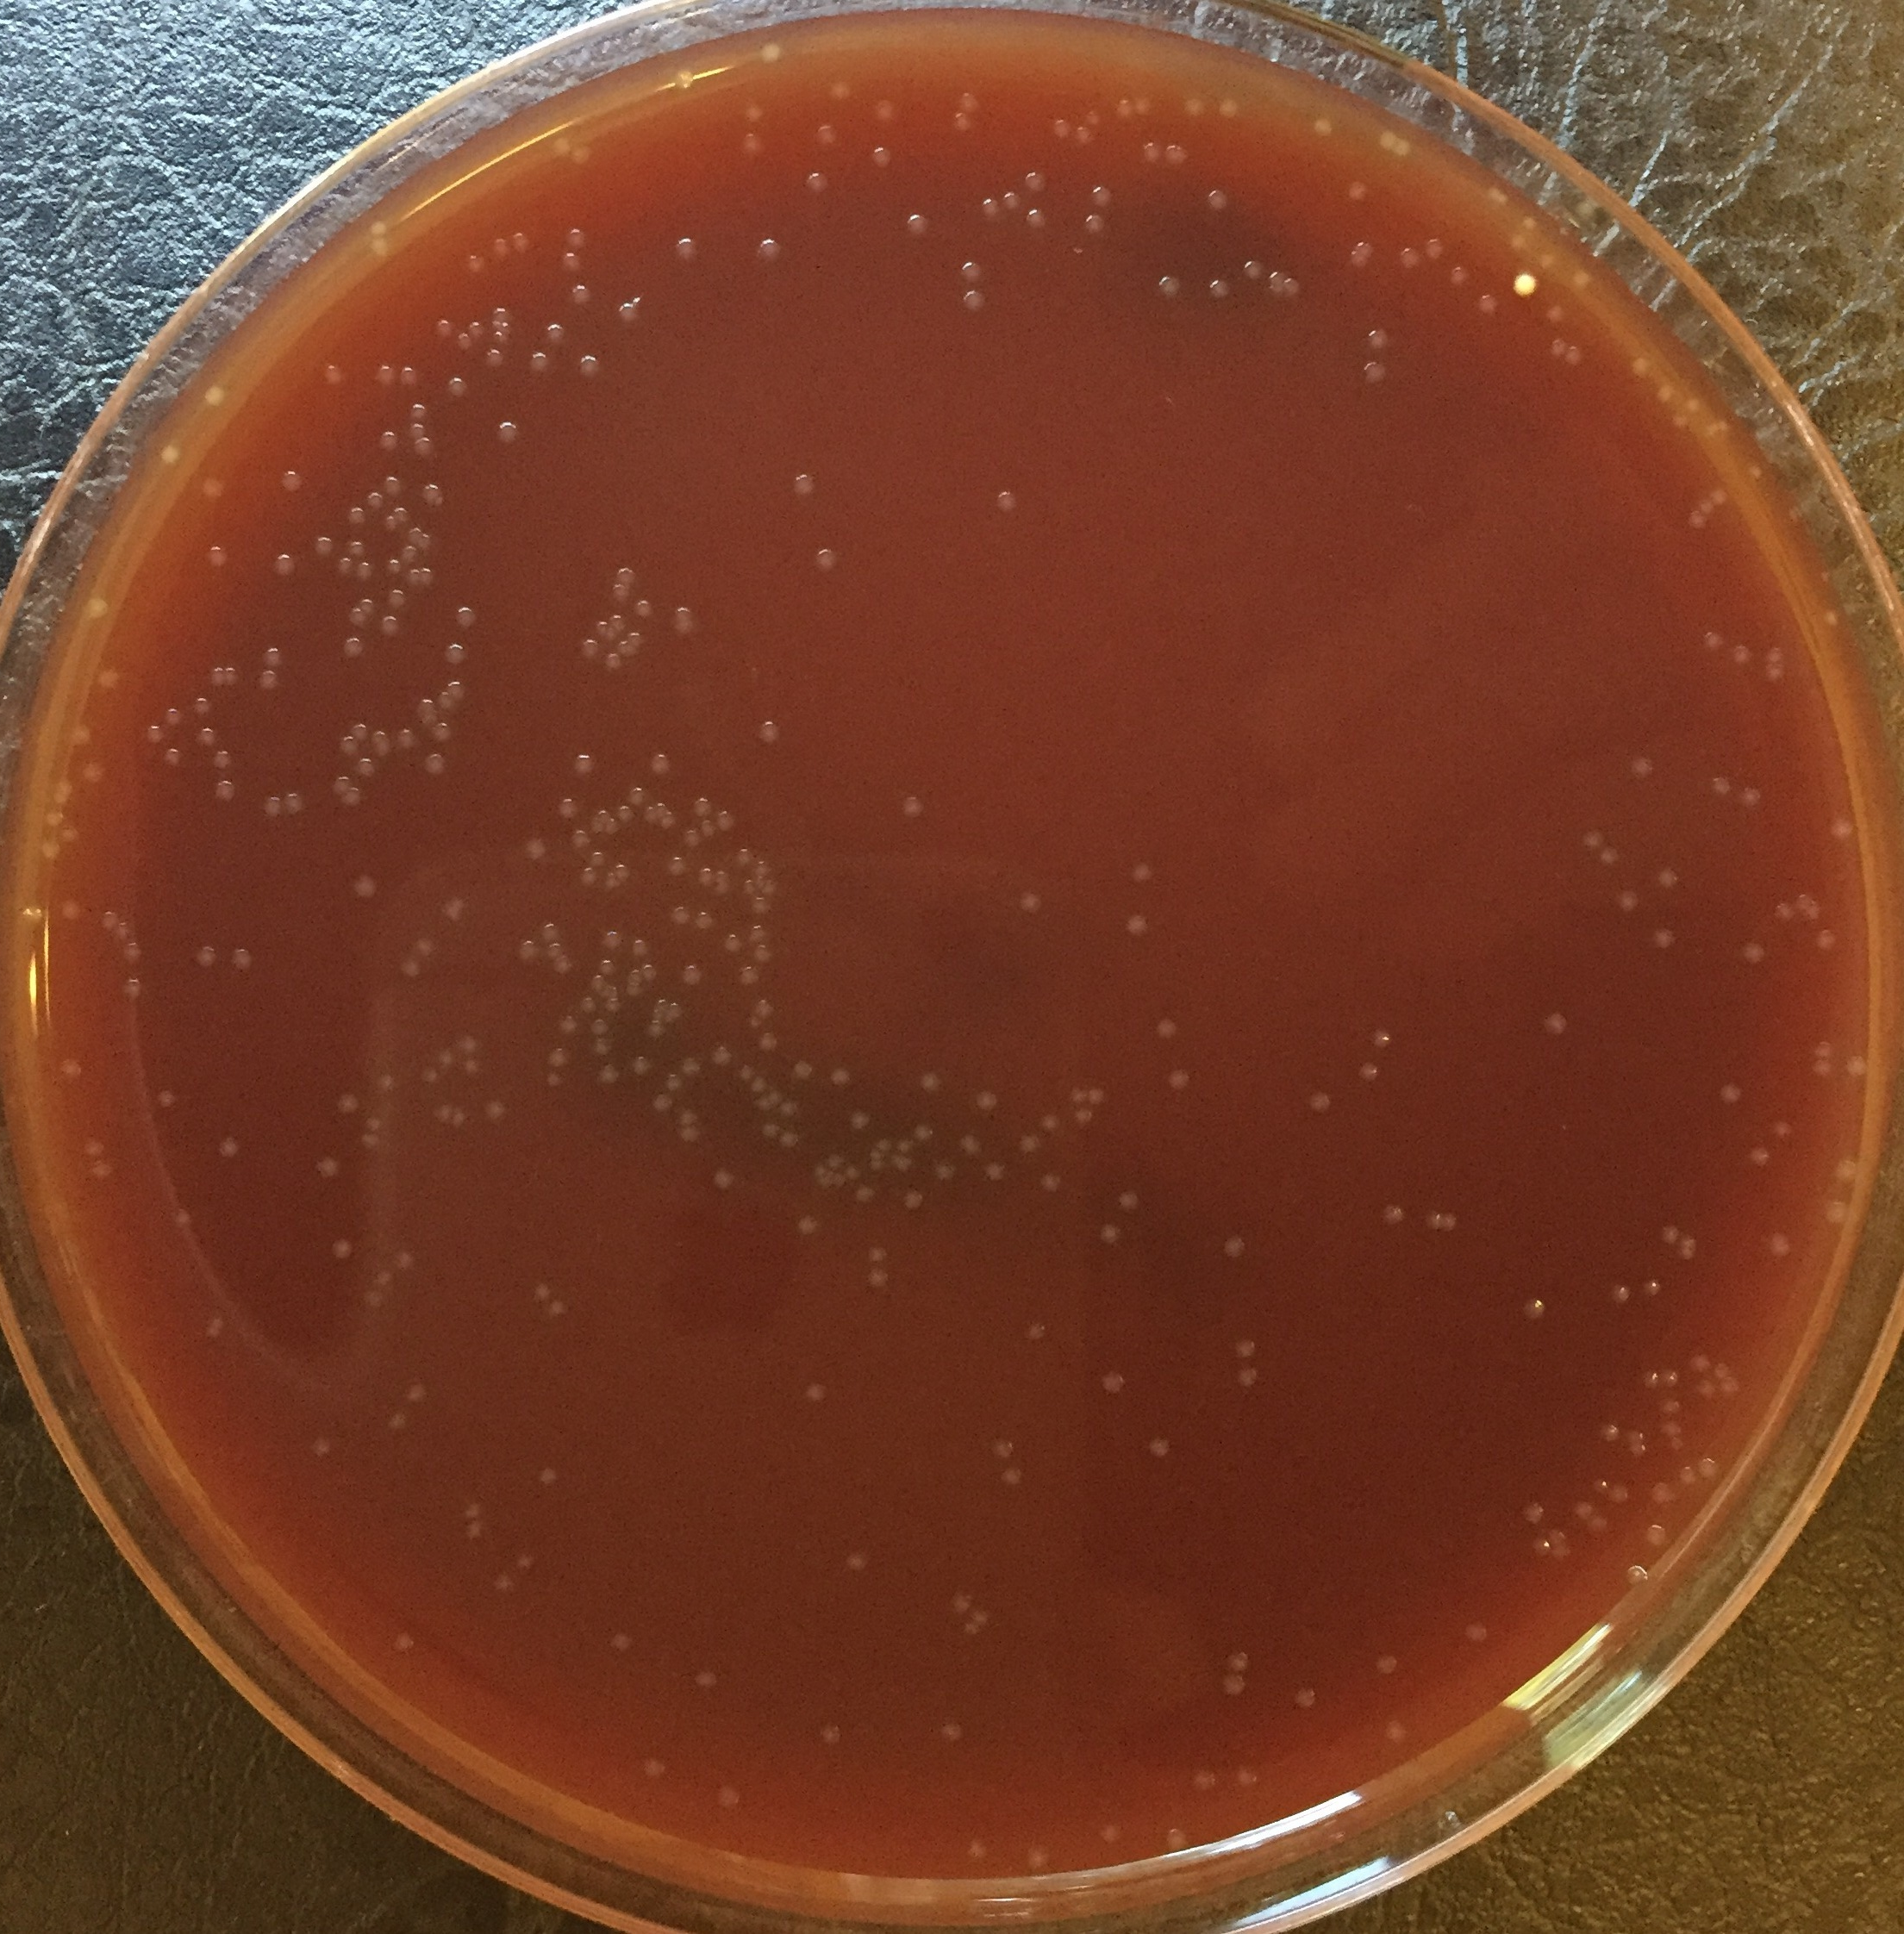sp10: (978, 476, 1027, 520), (192, 539, 239, 581), (750, 230, 790, 279), (1622, 748, 1662, 797), (1458, 1613, 1503, 1655), (1370, 1643, 1409, 1688), (708, 1775, 750, 1815), (1290, 1674, 1325, 1719), (802, 541, 839, 582), (1735, 936, 1770, 980), (1139, 1427, 1177, 1465), (1091, 1817, 1132, 1854), (952, 284, 990, 321), (77, 591, 115, 628), (837, 1540, 874, 1578), (1123, 853, 1163, 888), (153, 438, 190, 474), (668, 596, 703, 635), (194, 1311, 232, 1346), (1377, 1714, 1412, 1753), (1217, 1229, 1257, 1263), (1766, 1226, 1799, 1266), (1393, 235, 1425, 277), (490, 417, 525, 453), (199, 377, 232, 415), (263, 548, 302, 581), (605, 1629, 643, 1662), (572, 349, 603, 389), (1153, 270, 1187, 305), (441, 891, 476, 926), (1649, 865, 1693, 893), (821, 75, 858, 108), (786, 469, 823, 502), (1186, 1765, 1219, 1801), (1093, 1365, 1126, 1402), (1540, 1008, 1576, 1041), (197, 473, 230, 507), (1233, 1760, 1266, 1794), (1515, 1292, 1548, 1327), (1163, 136, 1194, 173), (1078, 215, 1116, 244), (1815, 924, 1845, 963), (1348, 235, 1376, 276), (1231, 1362, 1264, 1395), (1163, 1066, 1196, 1099), (1020, 162, 1051, 197), (1360, 361, 1391, 396), (1362, 324, 1397, 356), (1344, 176, 1376, 211), (63, 720, 98, 752), (227, 945, 262, 977), (799, 1378, 833, 1409), (636, 1751, 668, 1786), (1180, 92, 1210, 129), (309, 1154, 345, 1184), (818, 1714, 847, 1751), (1826, 807, 1862, 837), (668, 65, 706, 92), (1794, 888, 1822, 926), (673, 232, 699, 272), (420, 478, 452, 511), (392, 950, 424, 984), (896, 792, 928, 825), (1304, 1085, 1336, 1118), (166, 1203, 201, 1233), (793, 1210, 823, 1245), (1517, 1488, 1547, 1522), (1153, 1011, 1187, 1041), (1123, 909, 1158, 938), (867, 140, 894, 176), (615, 295, 647, 326), (275, 464, 307, 495), (396, 361, 427, 392), (1085, 181, 1118, 211), (1309, 113, 1343, 143), (1215, 92, 1245, 126), (337, 635, 370, 664), (1641, 1519, 1670, 1552), (1034, 1167, 1064, 1200), (1095, 1219, 1125, 1252), (1649, 924, 1679, 957), (1738, 781, 1768, 814), (1444, 249, 1468, 289), (521, 830, 549, 865), (384, 1629, 418, 1657), (968, 1086, 1003, 1114), (1833, 1154, 1860, 1189), (943, 110, 980, 136), (1203, 272, 1229, 309), (1756, 664, 1792, 691), (1608, 1278, 1632, 1317), (1020, 202, 1051, 232), (1203, 183, 1233, 215), (542, 317, 572, 349), (987, 1435, 1018, 1465), (1646, 1481, 1676, 1512), (952, 1130, 983, 1160), (1482, 181, 1513, 211), (814, 117, 842, 150), (797, 169, 830, 197), (370, 361, 398, 394), (347, 872, 380, 900), (211, 1132, 239, 1165), (706, 1038, 734, 1071), (1697, 1449, 1724, 1482), (1017, 889, 1044, 923), (1820, 1193, 1848, 1226), (439, 640, 474, 666), (687, 1669, 722, 1695), (1749, 1142, 1775, 1177), (1599, 846, 1634, 872), (907, 209, 931, 246), (450, 600, 479, 630), (418, 752, 448, 781), (326, 1231, 356, 1261), (938, 1714, 968, 1744), (1022, 1843, 1051, 1873), (757, 37, 785, 68), (992, 187, 1020, 218), (408, 432, 439, 460), (92, 663, 124, 691), (628, 1048, 656, 1079), (1215, 1676, 1247, 1704), (1608, 1482, 1635, 1514), (1766, 1114, 1798, 1142), (1353, 1055, 1381, 1086), (1697, 624, 1724, 656), (1728, 637, 1756, 668), (1466, 291, 1498, 319), (364, 239, 398, 265), (1139, 138, 1165, 171), (84, 1160, 117, 1186), (1217, 1646, 1250, 1672), (1627, 349, 1651, 384), (955, 82, 983, 112), (955, 255, 985, 283), (1238, 255, 1268, 283), (443, 371, 471, 401), (47, 774, 77, 802), (567, 748, 596, 776), (964, 1831, 992, 1861), (1161, 1824, 1189, 1854), (1020, 1317, 1050, 1345), (980, 1158, 1008, 1188), (1377, 1200, 1405, 1229), (1703, 771, 1733, 799), (159, 745, 185, 776), (591, 1060, 622, 1086), (706, 1163, 738, 1189), (455, 251, 488, 276), (738, 103, 771, 127), (973, 195, 997, 228), (1655, 371, 1677, 406), (558, 251, 586, 279), (94, 905, 122, 933), (188, 943, 216, 971), (755, 718, 783, 746), (384, 1411, 411, 1439), (900, 1188, 928, 1216), (1369, 1025, 1397, 1053), (1806, 1055, 1834, 1083), (380, 473, 410, 499), (373, 427, 399, 457), (80, 759, 106, 788), (117, 940, 146, 966), (546, 956, 575, 982), (678, 956, 704, 985), (915, 1067, 942, 1097), (1623, 1563, 1653, 1589), (929, 1156, 959, 1182), (1613, 888, 1642, 914), (1425, 227, 1445, 263), (223, 661, 248, 692), (17, 903, 49, 928), (828, 1064, 853, 1095), (1529, 1531, 1554, 1563), (488, 1571, 521, 1594), (1229, 1336, 1262, 1359), (1745, 455, 1768, 488), (738, 134, 764, 162), (255, 666, 281, 694), (211, 780, 237, 807), (119, 977, 145, 1004), (553, 795, 579, 823), (54, 1057, 82, 1083), (560, 225, 589, 249), (481, 349, 511, 373), (160, 701, 185, 731), (194, 724, 223, 748), (411, 935, 441, 959), (77, 1135, 106, 1160), (478, 1097, 507, 1121), (734, 963, 764, 987), (788, 1055, 818, 1079), (1641, 1271, 1665, 1301), (1716, 1081, 1745, 1106), (1541, 302, 1566, 331), (490, 232, 513, 263), (1048, 113, 1071, 145), (530, 349, 553, 380), (282, 787, 305, 818), (588, 1034, 619, 1057), (1845, 1046, 1867, 1078), (373, 725, 394, 759), (1655, 1416, 1688, 1437), (1112, 1188, 1146, 1209), (335, 555, 361, 581), (631, 591, 657, 617), (776, 1125, 802, 1151), (459, 1519, 485, 1545), (1133, 91, 1158, 119), (466, 316, 490, 344), (319, 361, 343, 389), (40, 841, 68, 865), (645, 748, 670, 776), (356, 1132, 384, 1156), (396, 1245, 420, 1273), (546, 1299, 574, 1324), (535, 1463, 560, 1491), (1770, 900, 1794, 928), (511, 225, 534, 255), (380, 588, 410, 610), (1036, 1111, 1065, 1134), (874, 96, 898, 122), (342, 502, 366, 528), (361, 487, 385, 513), (190, 691, 214, 717), (380, 614, 405, 640), (354, 562, 380, 586), (446, 678, 473, 703), (58, 823, 82, 849), (333, 1092, 359, 1116), (628, 935, 654, 959), (865, 1264, 889, 1290), (1651, 1221, 1677, 1245), (434, 718, 457, 746), (209, 746, 232, 774), (58, 895, 80, 923), (642, 1017, 670, 1039), (405, 1378, 427, 1406), (950, 1587, 973, 1615), (1683, 504, 1705, 532), (1397, 136, 1418, 166), (415, 696, 436, 725), (262, 790, 282, 820), (518, 935, 539, 964), (969, 1604, 999, 1625), (1552, 1528, 1573, 1557), (1599, 1420, 1620, 1449), (1677, 1235, 1698, 1264), (542, 138, 574, 157), (1674, 1456, 1693, 1488), (1761, 644, 1792, 663), (1283, 274, 1308, 298), (1076, 126, 1100, 150), (432, 316, 457, 340), (544, 1043, 568, 1067), (720, 931, 745, 956), (912, 1116, 936, 1141), (865, 1240, 889, 1264), (1719, 1374, 1744, 1399), (357, 595, 380, 621), (434, 689, 460, 712), (396, 724, 418, 750), (375, 1069, 398, 1095), (457, 1057, 483, 1079), (846, 1107, 872, 1130), (363, 1290, 389, 1313), (1533, 248, 1559, 270), (1372, 122, 1393, 150), (312, 530, 333, 558), (420, 567, 441, 595), (612, 563, 640, 584), (598, 930, 626, 950), (680, 1050, 701, 1078), (155, 1085, 174, 1114), (1506, 228, 1526, 258), (1810, 1034, 1839, 1053), (570, 283, 595, 305), (600, 650, 622, 675), (349, 718, 373, 741), (337, 736, 361, 759), (418, 1066, 443, 1088), (455, 1031, 479, 1053), (539, 919, 563, 942), (661, 1073, 683, 1097), (753, 940, 778, 963), (692, 909, 717, 931), (718, 806, 743, 828), (530, 1277, 553, 1301), (853, 1182, 877, 1205), (1017, 1130, 1039, 1154), (1440, 1210, 1465, 1233), (1111, 96, 1132, 122), (258, 645, 284, 666), (343, 539, 370, 560), (677, 1125, 703, 1146), (1564, 345, 1590, 366), (364, 218, 392, 237), (406, 401, 434, 420), (588, 1015, 615, 1034), (713, 867, 732, 895), (996, 1472, 1029, 1488), (357, 757, 380, 780), (757, 1031, 779, 1053), (670, 905, 692, 928), (373, 1266, 396, 1289), (514, 1552, 537, 1575), (1635, 1365, 1658, 1388), (1072, 1107, 1095, 1130), (490, 300, 514, 321), (486, 328, 511, 349), (345, 609, 370, 630), (377, 511, 398, 535), (575, 638, 600, 659), (650, 1092, 675, 1113), (572, 867, 596, 888), (692, 861, 713, 886), (1581, 821, 1602, 846), (1571, 272, 1595, 293), (1712, 480, 1733, 504), (1264, 270, 1283, 296), (1083, 105, 1102, 131), (418, 528, 438, 555), (309, 1435, 335, 1454), (457, 331, 474, 359), (450, 1107, 467, 1135), (541, 1073, 568, 1090), (640, 804, 657, 832), (607, 584, 629, 605), (42, 804, 65, 825), (615, 802, 636, 825), (624, 783, 647, 804), (689, 795, 711, 816), (666, 855, 687, 877), (1571, 1498, 1592, 1521), (1660, 1365, 1681, 1388), (1667, 413, 1690, 434), (1695, 497, 1717, 518), (434, 1046, 453, 1071), (556, 1010, 575, 1034), (570, 827, 589, 851), (682, 823, 701, 848), (460, 1500, 485, 1519), (893, 1153, 912, 1177), (1686, 1352, 1710, 1371), (1423, 1209, 1442, 1233), (1545, 335, 1564, 359), (814, 1163, 832, 1189), (1660, 1437, 1686, 1454), (401, 544, 422, 565), (617, 640, 638, 661), (755, 996, 776, 1017), (1697, 1378, 1717, 1399), (143, 722, 162, 745), (343, 788, 363, 811), (113, 921, 136, 940), (746, 921, 769, 940), (1590, 1517, 1609, 1540), (1681, 392, 1703, 412), (495, 319, 520, 337), (361, 1111, 385, 1128), (1655, 1399, 1679, 1416), (750, 896, 776, 912), (575, 143, 595, 164), (380, 558, 401, 577), (431, 1102, 450, 1123), (732, 846, 751, 867), (1712, 1357, 1733, 1376), (1065, 1081, 1085, 1102), (396, 504, 418, 521), (603, 872, 621, 895), (209, 664, 225, 689), (542, 943, 567, 959), (776, 1100, 800, 1116), (1627, 1444, 1651, 1460), (605, 998, 624, 1017), (579, 996, 598, 1015), (670, 1001, 689, 1020), (734, 1060, 753, 1079), (844, 1163, 863, 1182), (614, 860, 631, 881), (603, 818, 621, 839), (659, 813, 680, 830), (755, 856, 776, 874), (760, 1120, 778, 1141), (1588, 1475, 1606, 1496), (1088, 1085, 1105, 1106), (677, 1109, 699, 1125), (701, 816, 717, 839), (331, 773, 349, 792), (600, 959, 619, 977), (589, 849, 607, 868), (408, 422, 429, 438), (645, 961, 661, 982), (741, 1015, 762, 1031), (751, 1095, 772, 1111), (964, 1618, 980, 1639), (830, 1168, 844, 1191), (609, 614, 626, 631), (748, 1074, 765, 1092), (1524, 211, 1541, 228), (403, 521, 418, 541), (405, 567, 420, 586), (626, 984, 645, 999), (588, 818, 603, 837), (894, 1139, 914, 1154), (1623, 1428, 1644, 1442), (654, 799, 666, 821), (626, 966, 643, 982), (647, 1004, 664, 1020), (825, 1151, 840, 1168), (868, 1156, 884, 1174), (635, 628, 647, 649), (588, 973, 603, 989), (656, 994, 671, 1010), (762, 881, 778, 896), (600, 984, 619, 996), (741, 877, 753, 896), (769, 1086, 781, 1106), (596, 807, 610, 823), (879, 1135, 894, 1149), (753, 874, 767, 888), (593, 619, 609, 631), (867, 1147, 884, 1158)
